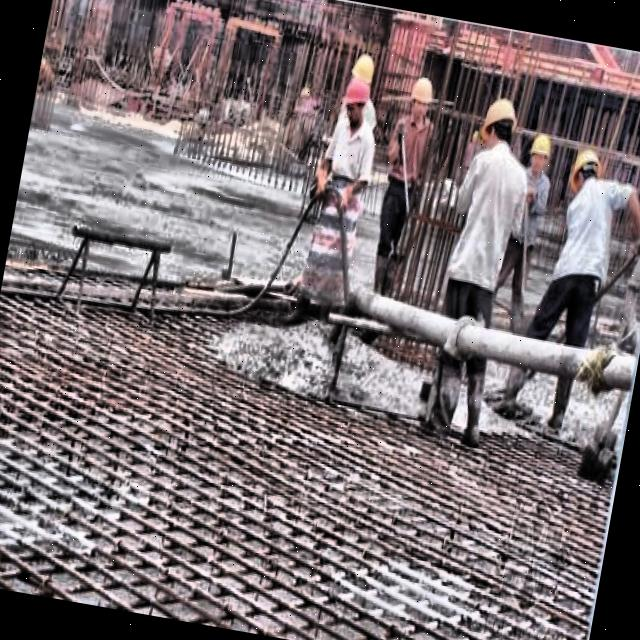helmet: (476, 92, 520, 158), (564, 140, 606, 199), (400, 73, 440, 124), (339, 75, 374, 128), (346, 54, 380, 98), (524, 127, 554, 176)
